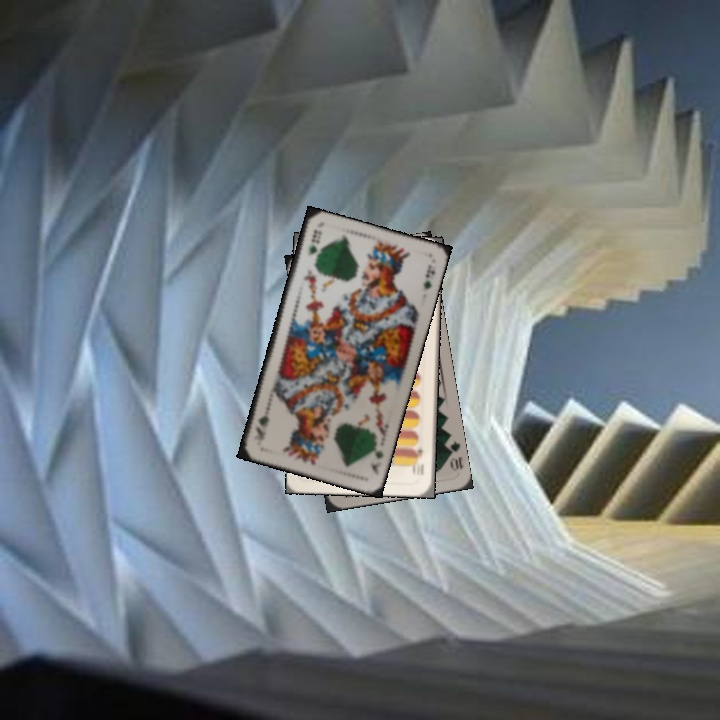E10: (410, 445, 426, 478)
G10: (441, 434, 465, 472)
GK: (366, 437, 386, 477), (305, 225, 324, 258)
